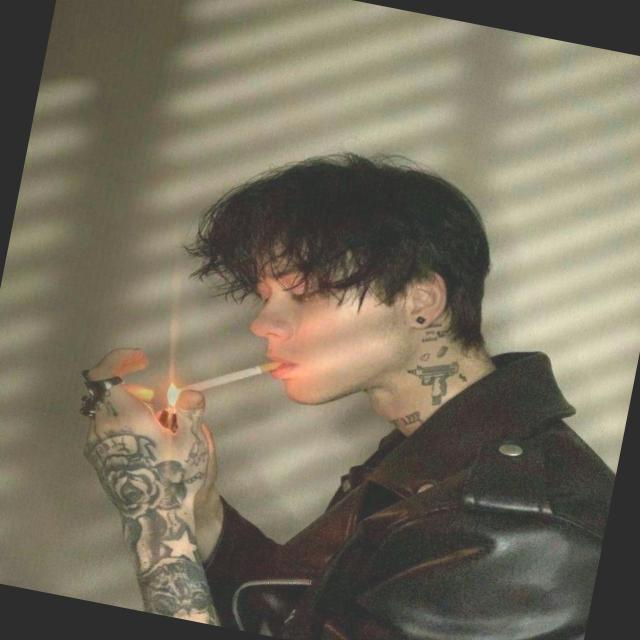smoke: (183, 336, 294, 410)
